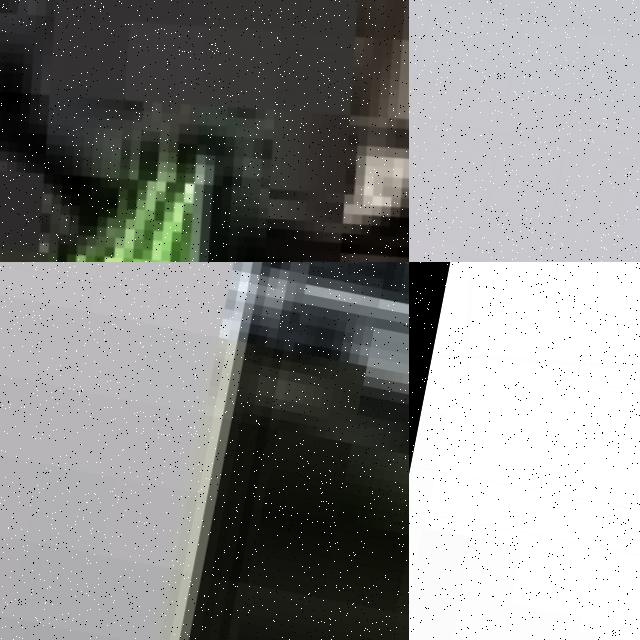0: (0, 0, 409, 262)
drone: (434, 262, 640, 466)
